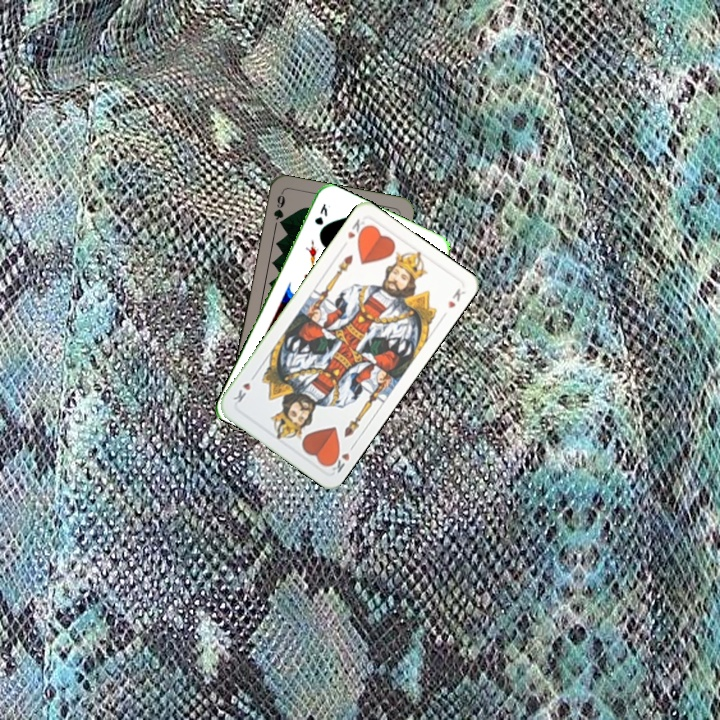G9: (269, 189, 288, 223)
GK: (310, 200, 330, 228)
HK: (325, 440, 358, 475), (343, 215, 370, 243)
